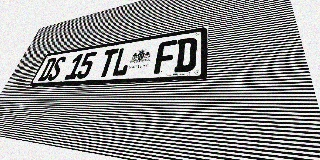1: (64, 53, 86, 80)
5: (75, 51, 97, 79)
D: (174, 37, 197, 73), (37, 57, 58, 81)
F: (154, 40, 177, 74)
L: (111, 46, 134, 77)
S: (46, 56, 67, 81)
T: (96, 48, 119, 78)
